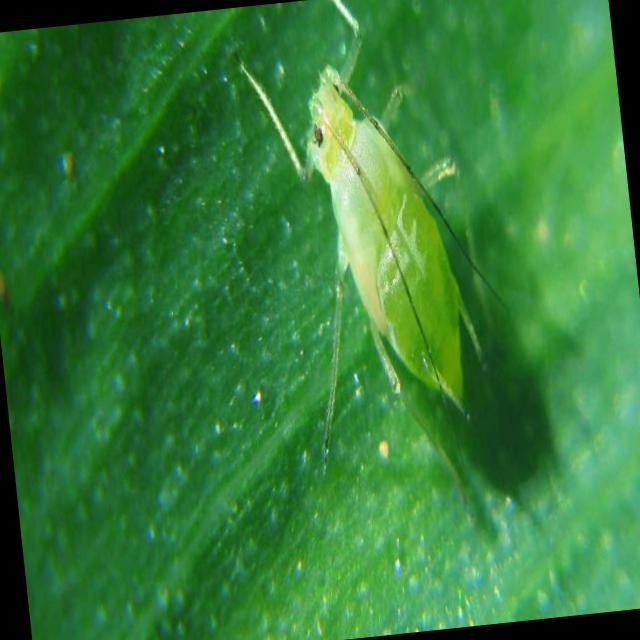aphid: (241, 64, 479, 457)
